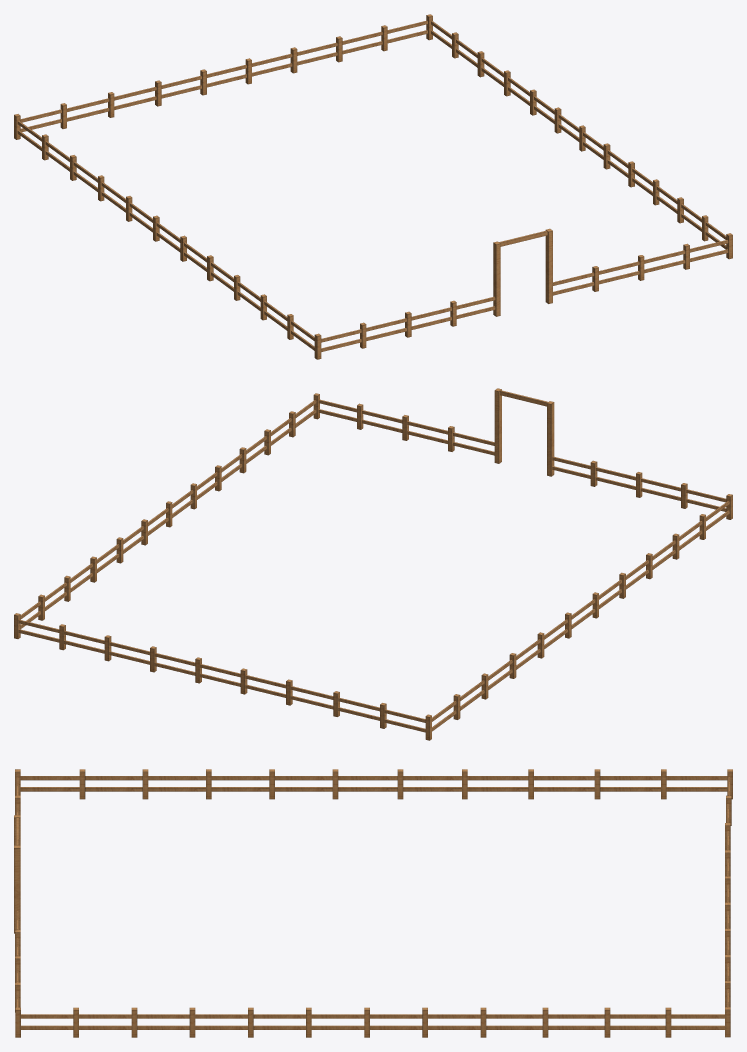
3 renders of one model, top to bottom at view 1: azimuth 30°, elevation 25°; view 2: azimuth 150°, elevation 25°; view 3: azimuth 270°, elevation 25°, orthographic. The views are drawn at different scales.
Parts seen in each view (by area): view 1: Farm1; view 2: Farm1; view 3: Farm1.
Boxes of the visible parts, x1,y1,x2,y2 form: Farm1: (14,14,732,359); Farm1: (14,388,732,740); Farm1: (14,769,732,1037).
Size of the model in its own units: 710 by 118 by 896.
